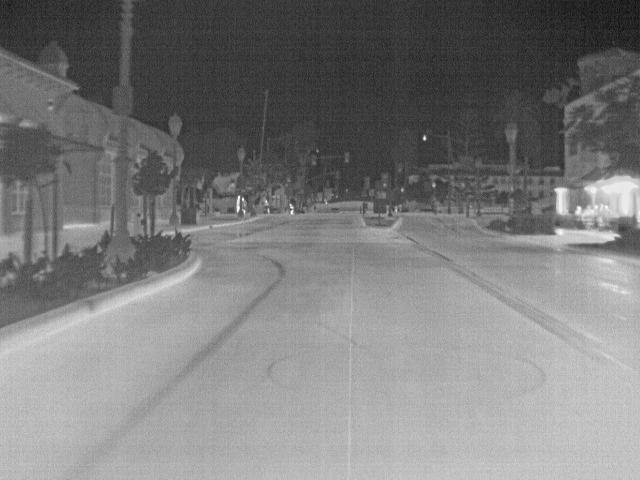person: (601, 204, 613, 220), (581, 204, 594, 218), (573, 204, 583, 216), (593, 204, 600, 218)
